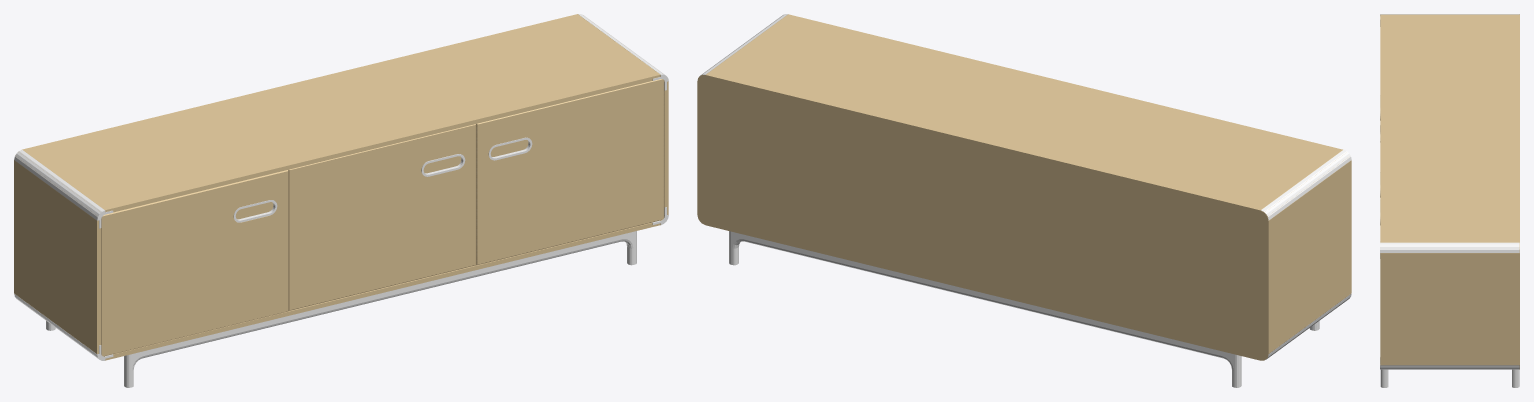
File: ArmarioBajo1.fbx
3 renders of one model, left to right at view 1: azimuth 30°, elevation 25°; view 2: azimuth 150°, elevation 25°; view 3: azimuth 270°, elevation 25°, orthographic. The views are drawn at different scales.
Visible parts, largest first — view 1: extents_ka_1_1; view 2: extents_ka_1_1; view 3: extents_ka_1_1.
Part boxes in pixels (<box>): extents_ka_1_1: <box>14,14,668,387</box>; extents_ka_1_1: <box>697,14,1351,387</box>; extents_ka_1_1: <box>1380,14,1519,387</box>.
Bounding box in the file's own units: 3.22 × 0.99 × 0.8118.
